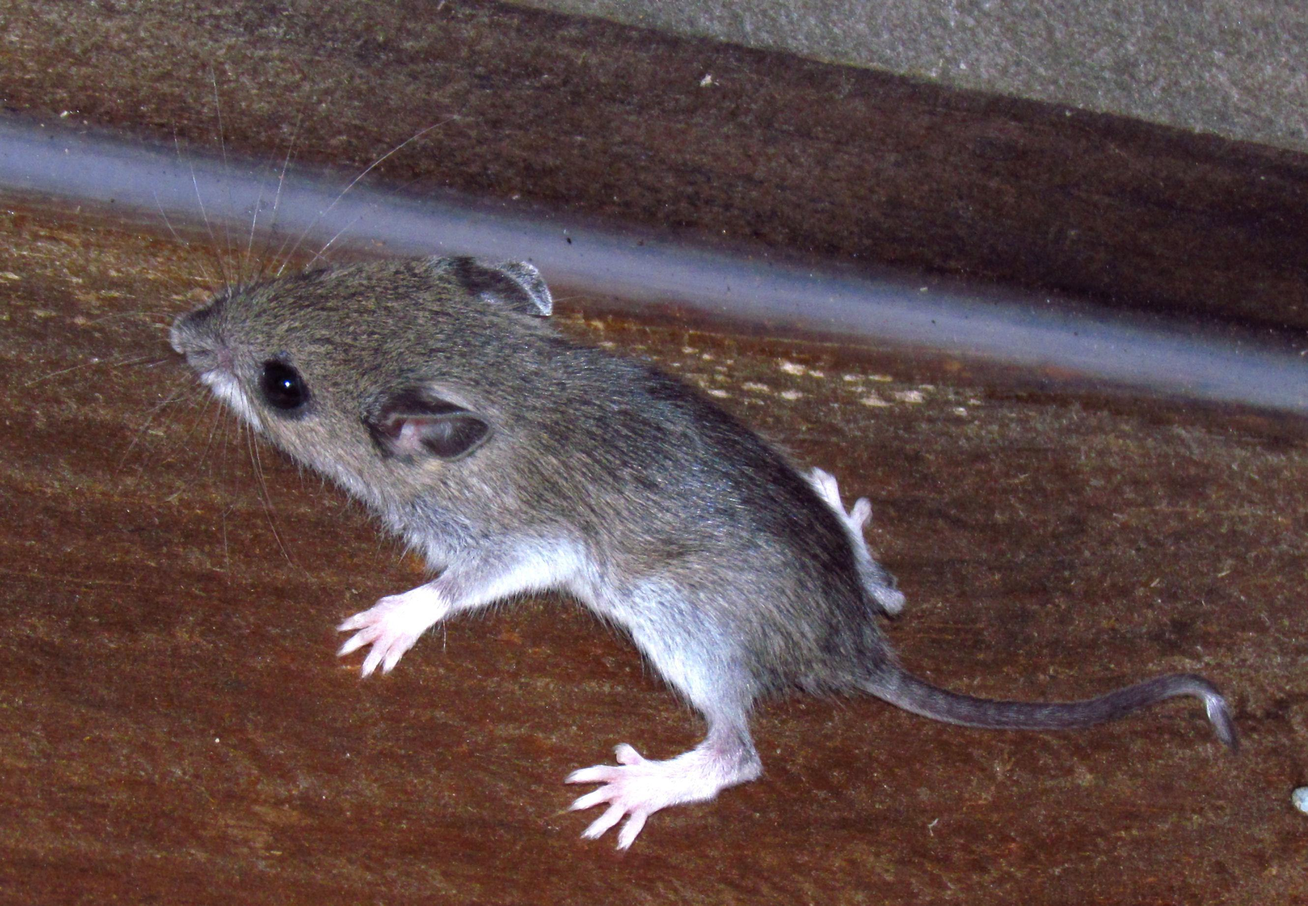rat: (168, 250, 1233, 851)
